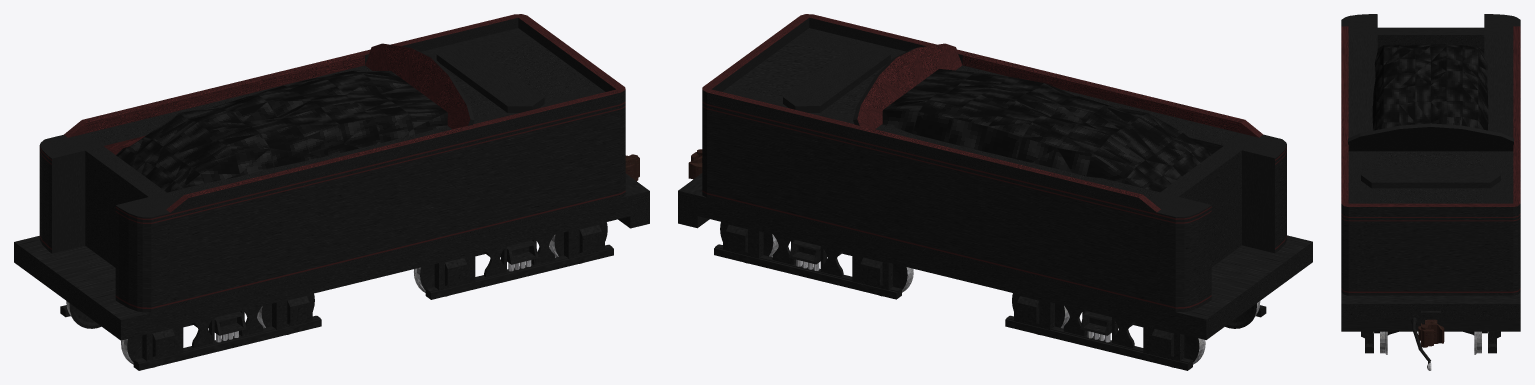
The model's file is e6_tender.obj.
3 views of the same model, side by side, from view 1: azimuth 30°, elevation 25°; view 2: azimuth 150°, elevation 25°; view 3: azimuth 270°, elevation 25° (orthographic). The views are drawn at different scales.
Parts seen in each view (by area): view 1: BODY_Cube.030, COAL_Plane, FRAME_Cube.028, BOGEY_FRONT_Cube.008, BOGEY_REAR_Cube.047, BOGEY_FRONT_WHEEL_2_Cylinder.003; view 2: BODY_Cube.030, COAL_Plane, FRAME_Cube.028, BOGEY_FRONT_Cube.008, BOGEY_REAR_Cube.047, BOGEY_FRONT_WHEEL_2_Cylinder.003; view 3: BODY_Cube.030, COAL_Plane, FRAME_Cube.028, BACK_COUPLER_Cube.007, BOGEY_REAR_WHEEL_2_Cylinder.041, BOGEY_REAR_Cube.047.
Part boxes in pixels (x1,y1,x2,y2): BODY_Cube.030: (39,14,625,312); COAL_Plane: (116,70,447,192); FRAME_Cube.028: (14,173,649,340); BOGEY_FRONT_Cube.008: (60,294,321,370); BOGEY_REAR_Cube.047: (425,222,613,299); BOGEY_FRONT_WHEEL_2_Cylinder.003: (66,301,154,367); BODY_Cube.030: (702,14,1286,311); COAL_Plane: (882,69,1211,192); FRAME_Cube.028: (678,173,1312,339); BOGEY_FRONT_Cube.008: (1005,293,1266,370); BOGEY_REAR_Cube.047: (714,222,901,299); BOGEY_FRONT_WHEEL_2_Cylinder.003: (1171,301,1260,367); BODY_Cube.030: (1341,14,1520,295); COAL_Plane: (1372,44,1488,130); FRAME_Cube.028: (1341,292,1520,331); BACK_COUPLER_Cube.007: (1411,317,1444,370); BOGEY_REAR_WHEEL_2_Cylinder.041: (1373,331,1488,354); BOGEY_REAR_Cube.047: (1361,331,1500,353).
Bounding box in the file's own units: 8.75 × 3.15 × 2.84.
5 materials, 5 textured.
